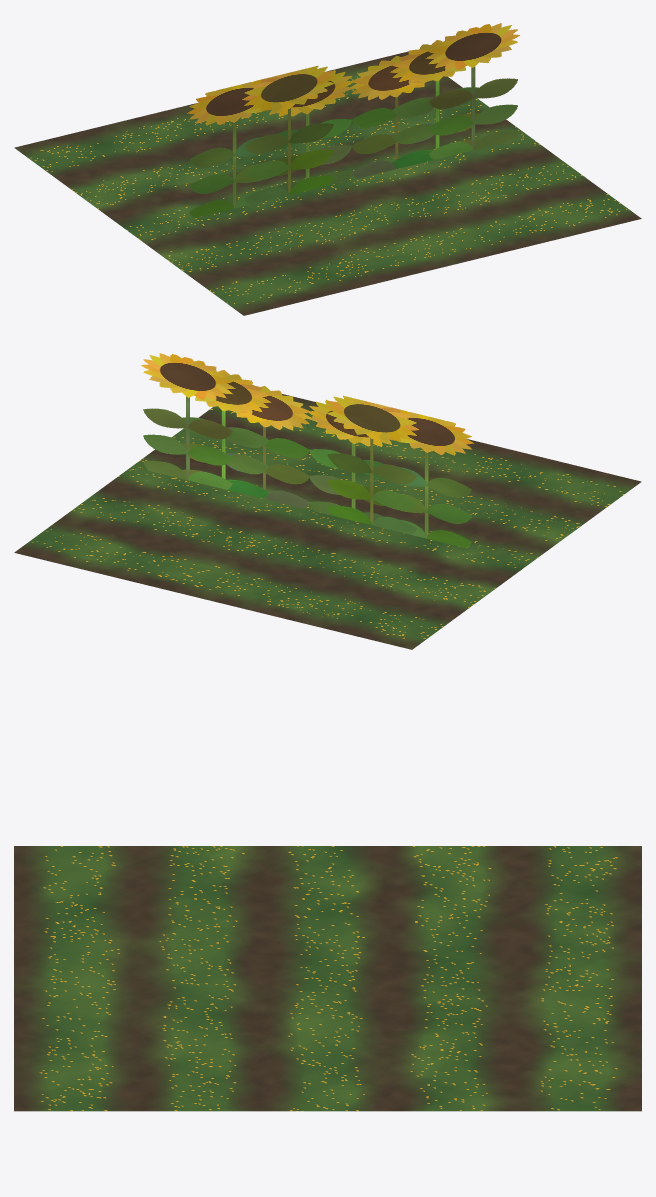
Rendered from Crop_Sunflower_1_LOD2.gltf.
3 renders of one model, top to bottom at view 1: azimuth 30°, elevation 25°; view 2: azimuth 150°, elevation 25°; view 3: azimuth 270°, elevation 25°, orthographic. The views are drawn at different scales.
Visible parts, largest first — view 1: Crop_Sunflower_1_LOD2; view 2: Crop_Sunflower_1_LOD2; view 3: Crop_Sunflower_1_LOD2.
Boxes of the visible parts, x1,y1,x2,y2 form: Crop_Sunflower_1_LOD2: (14, 23, 641, 315); Crop_Sunflower_1_LOD2: (14, 353, 641, 649); Crop_Sunflower_1_LOD2: (14, 846, 641, 1111).
Bounding box in the file's own units: 4 × 1.68 × 4.
2 materials, 2 textured.
